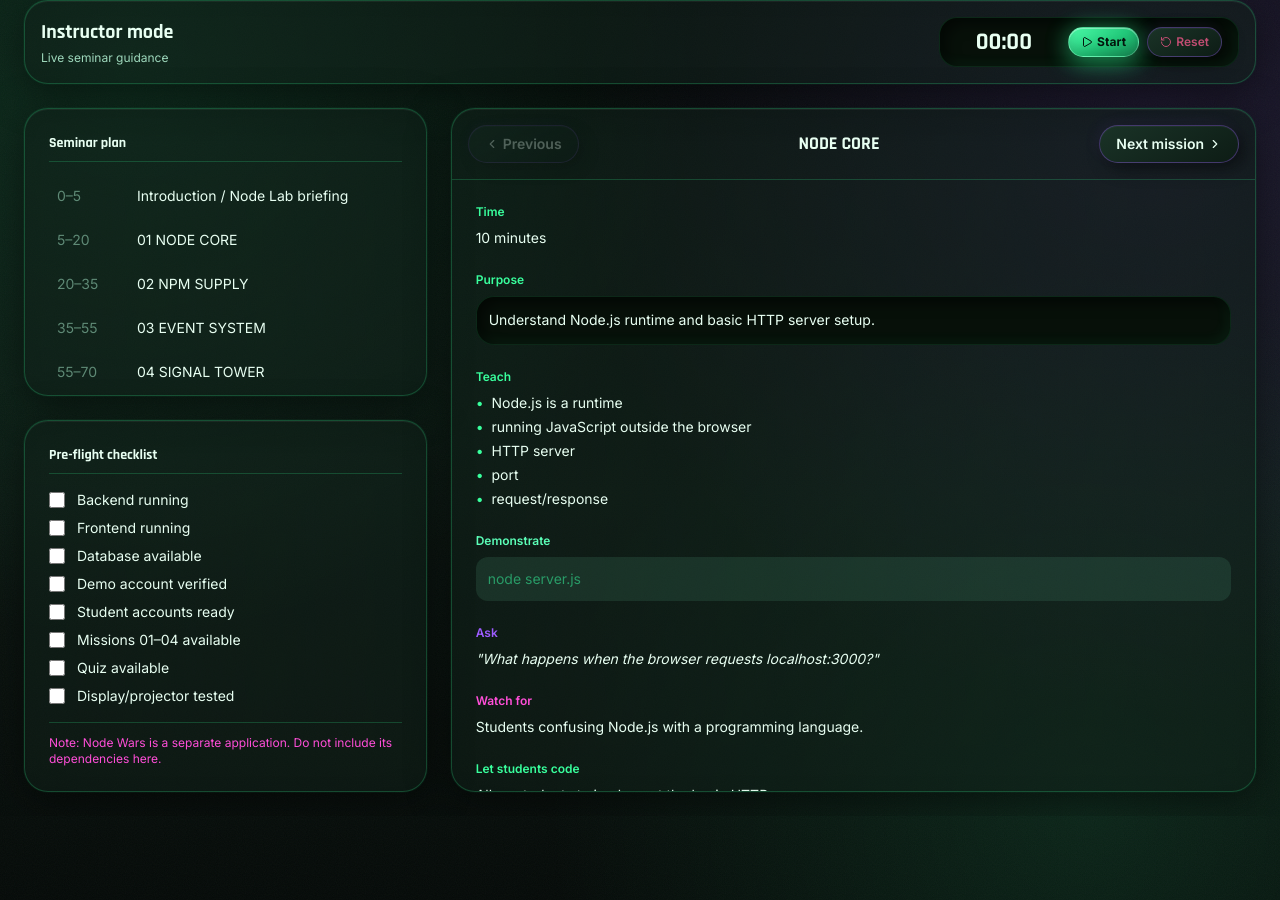
Test: InstructorMode › O-S. Timer start, pause, resume, reset, and cleanup works.
Expected: the text "00:00" is shown, [976,27,1032,57]
Click the button with test id "timer-start".
click(1104, 42)  # box [1068,27,1139,57]
Wait 5000 ms
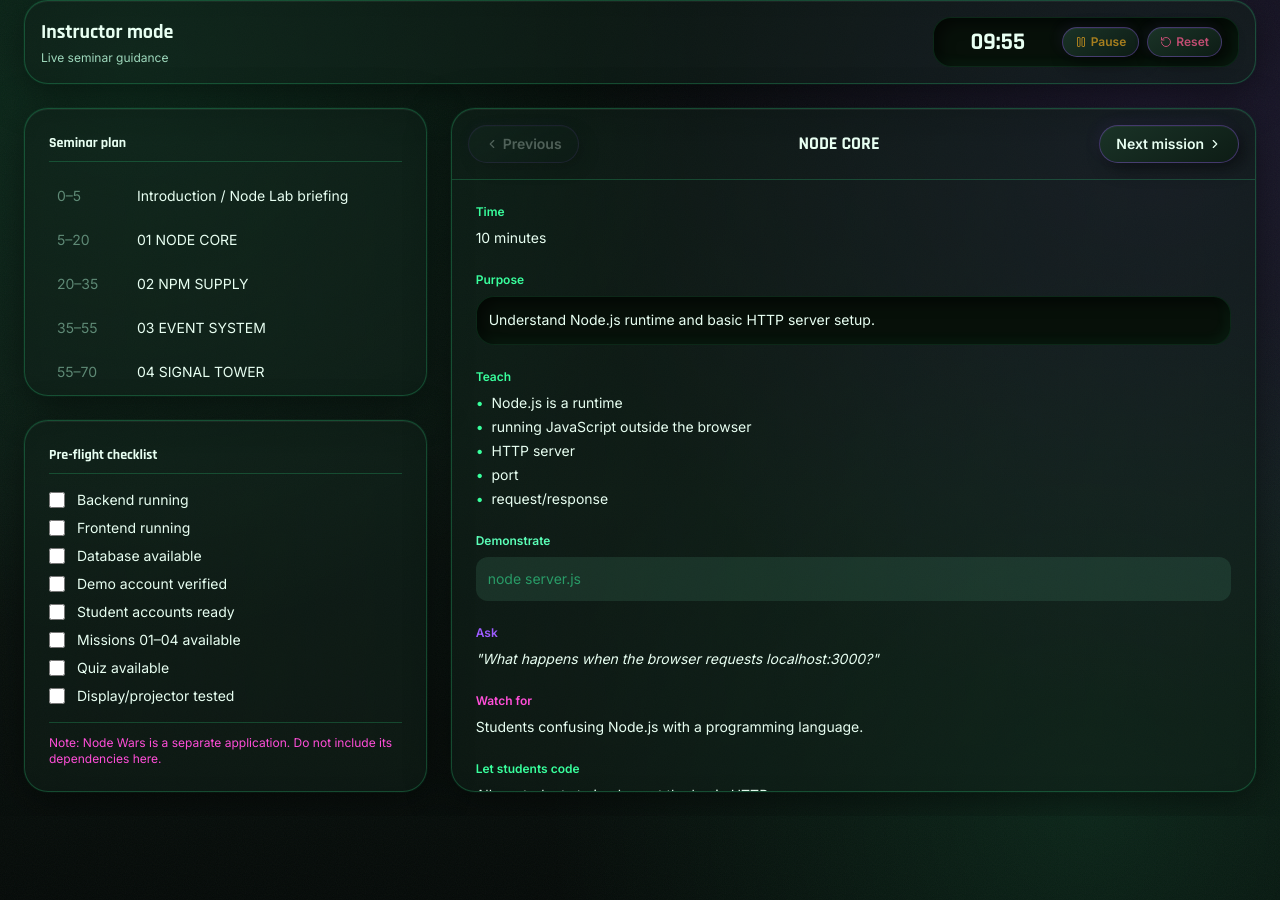
Expected: the text "09:55" is shown, [970,27,1025,57]
Click the button with test id "timer-pause".
click(1100, 42)  # box [1062,27,1139,57]
Wait 5000 ms
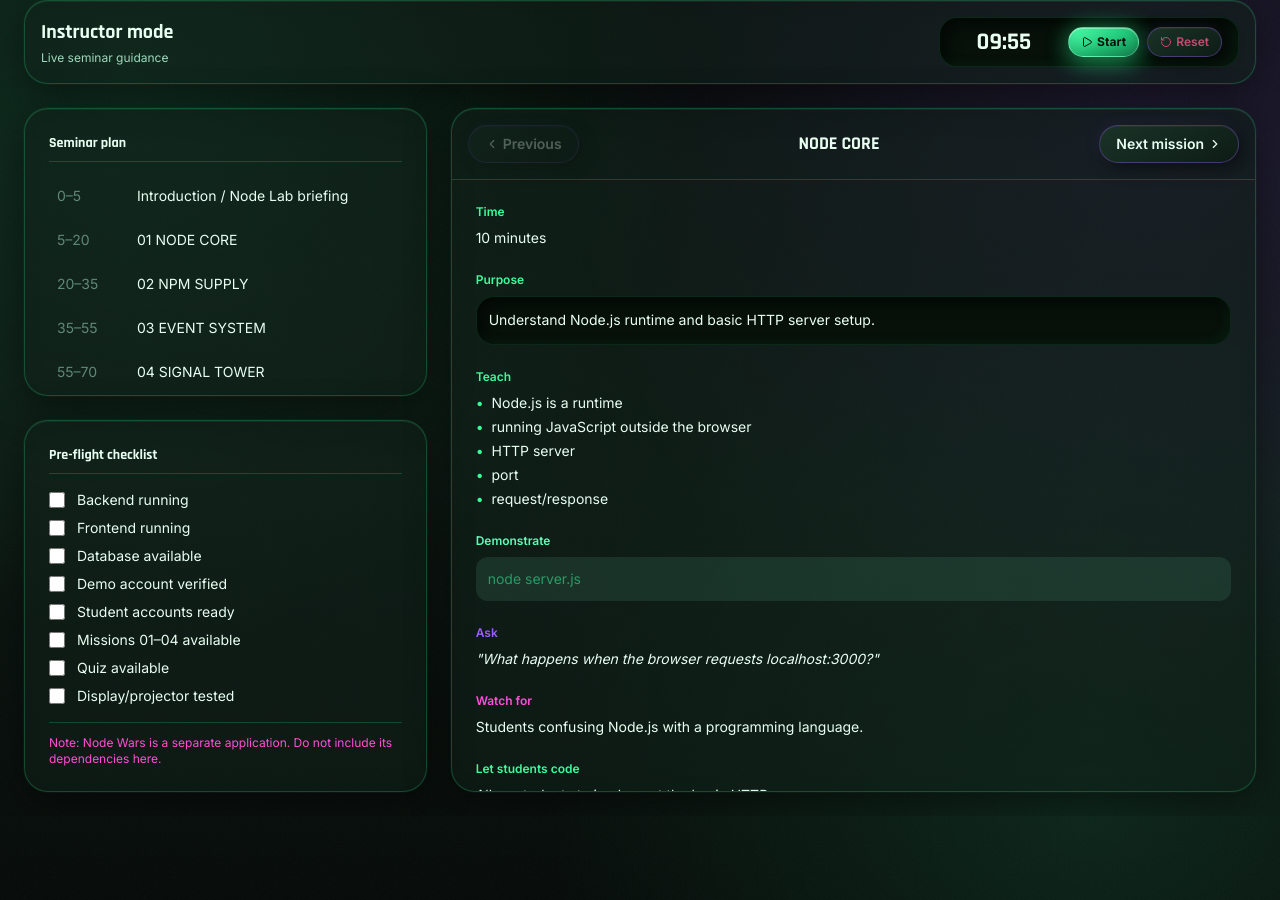
Expected: the text "09:55" is shown, [977,27,1031,57]
Note: Resume (Start)
Click the button with test id "timer-start".
click(1104, 42)  # box [1068,27,1139,57]
Wait 5000 ms
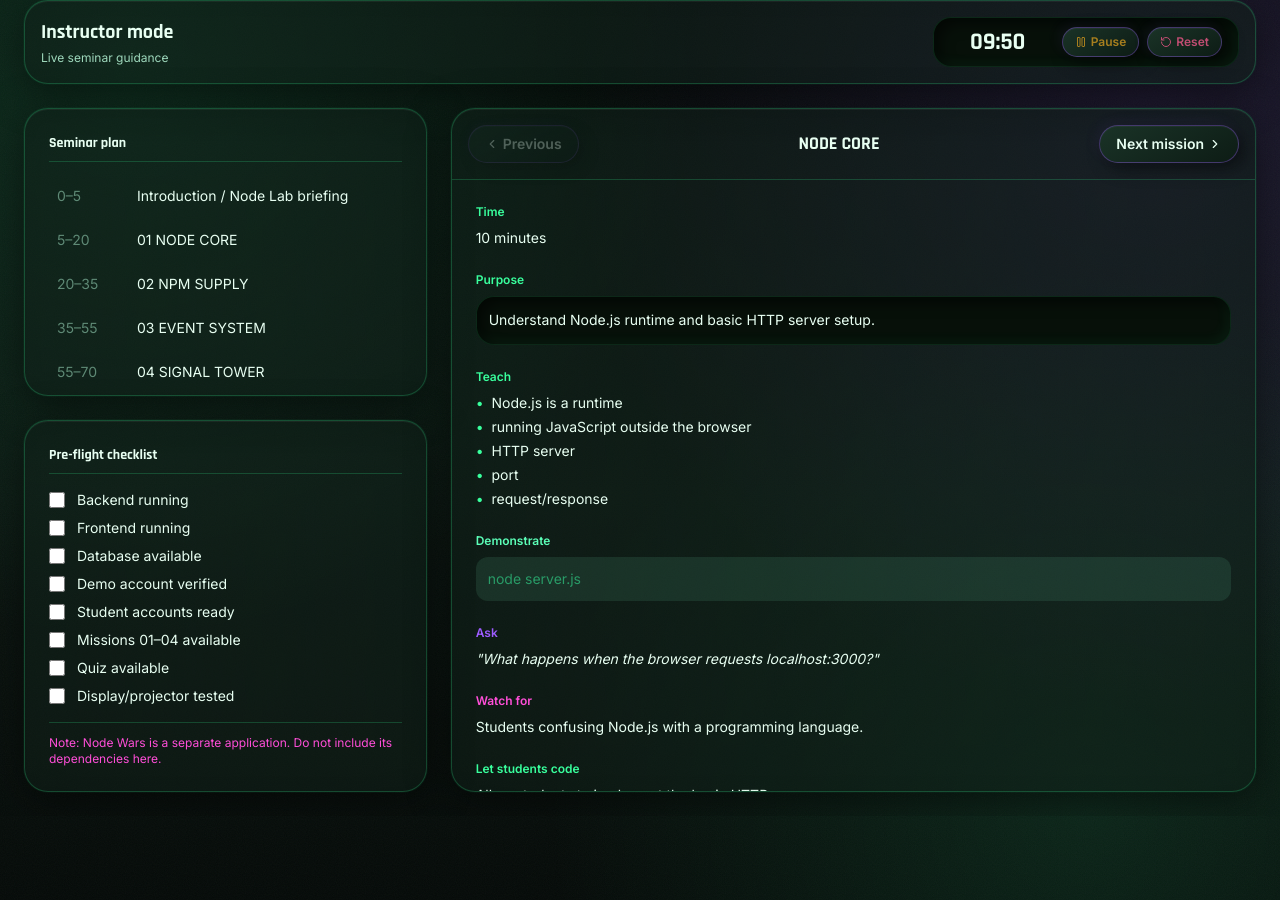
Expected: the text "09:50" is shown, [970,27,1025,57]
Click the button with test id "timer-reset".
click(1185, 42)  # box [1147,27,1222,57]
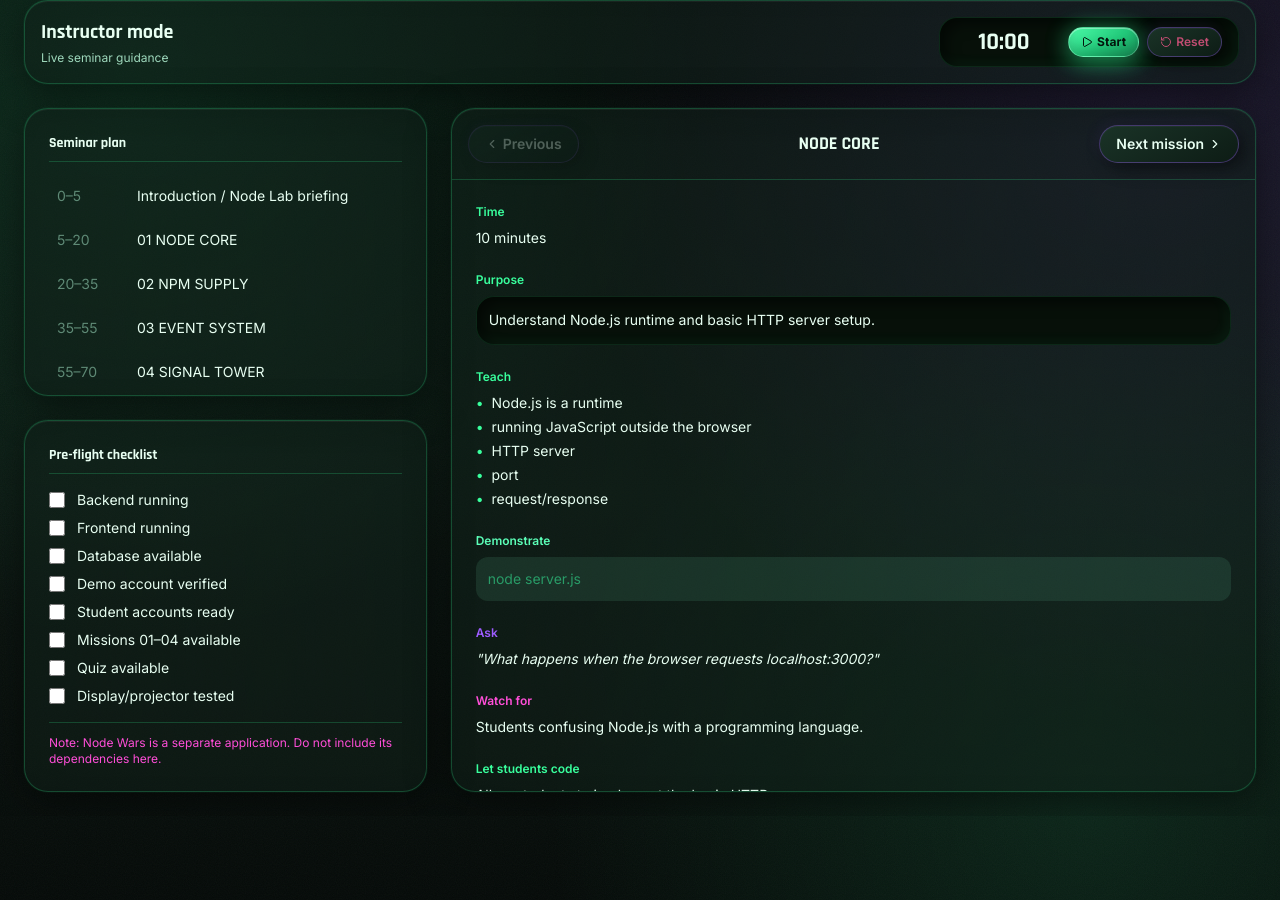
Expected: the text "10:00" is shown, [978,27,1030,57]
